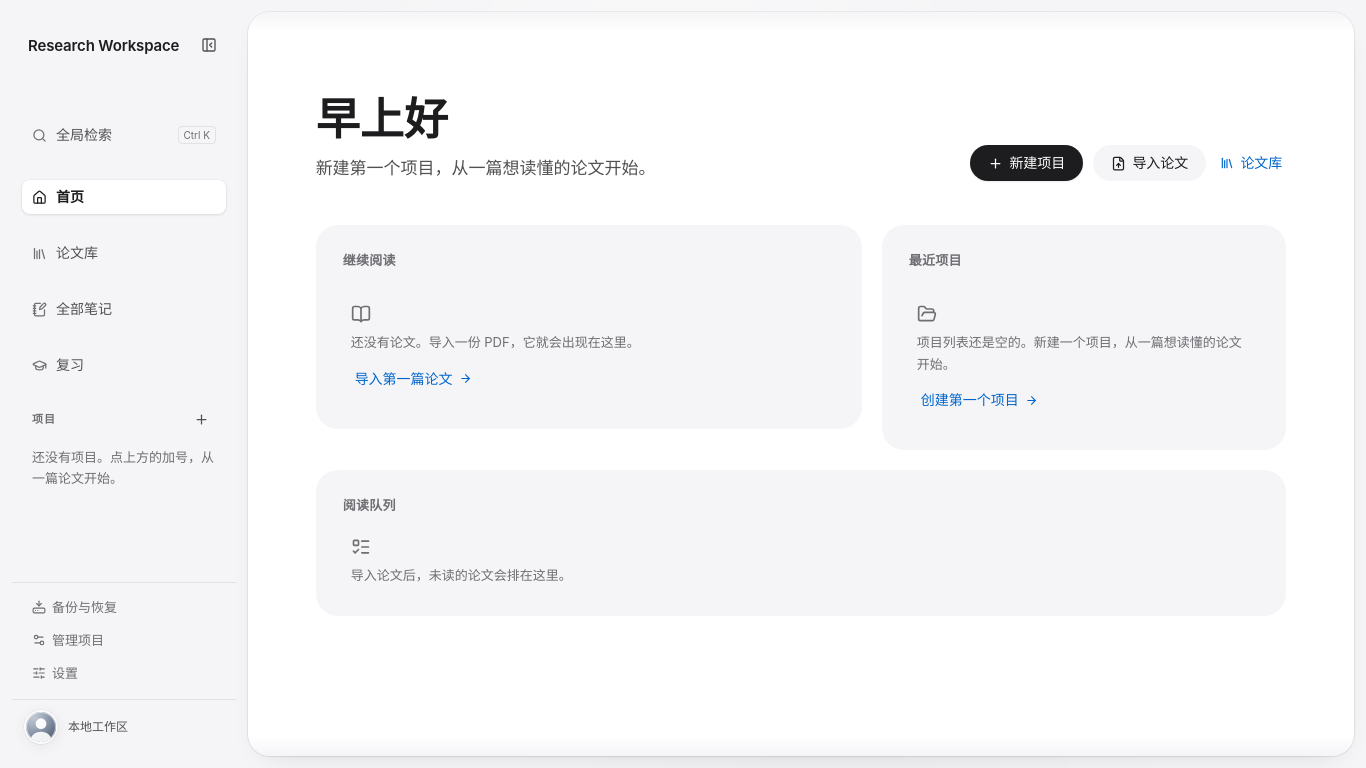
Test: opening a paper whose file is gone › offers to import a file for a paper that never had one
This screenshot has width=1366, height=768.
Click the button named "新建项目" at [201, 419], box [186,404,216,434]
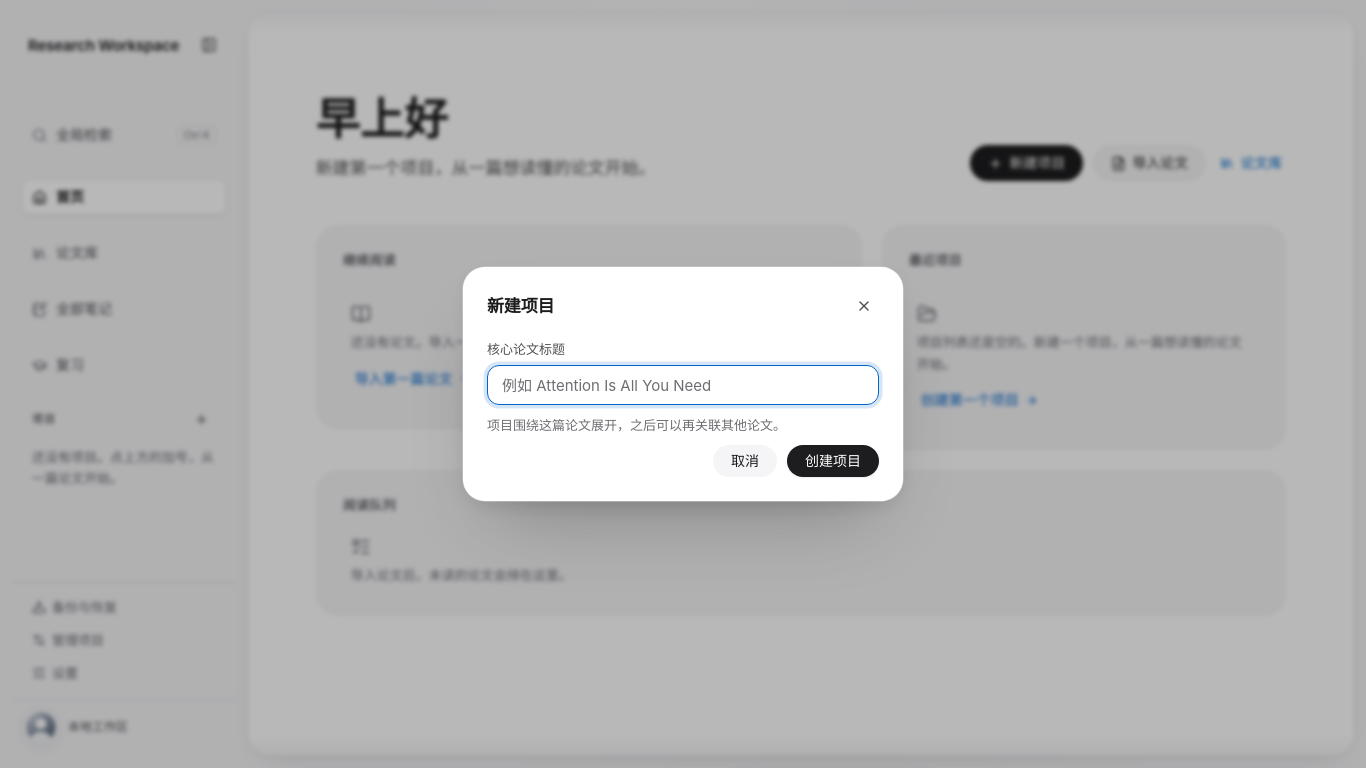
Type "Attention" into the field labelled "核心论文标题" at [683, 385], box [487,365,879,405]
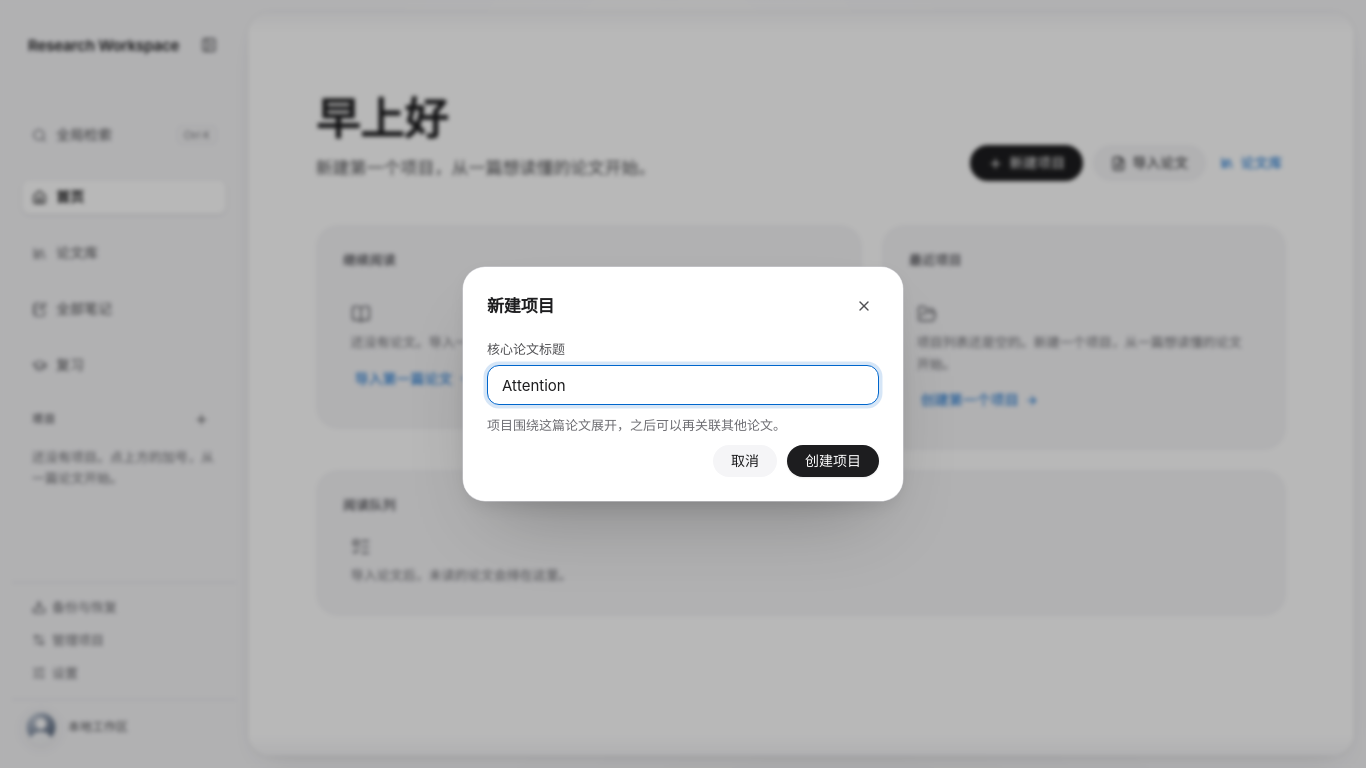
Click the button "创建项目" at [833, 461], box [787,445,879,477]
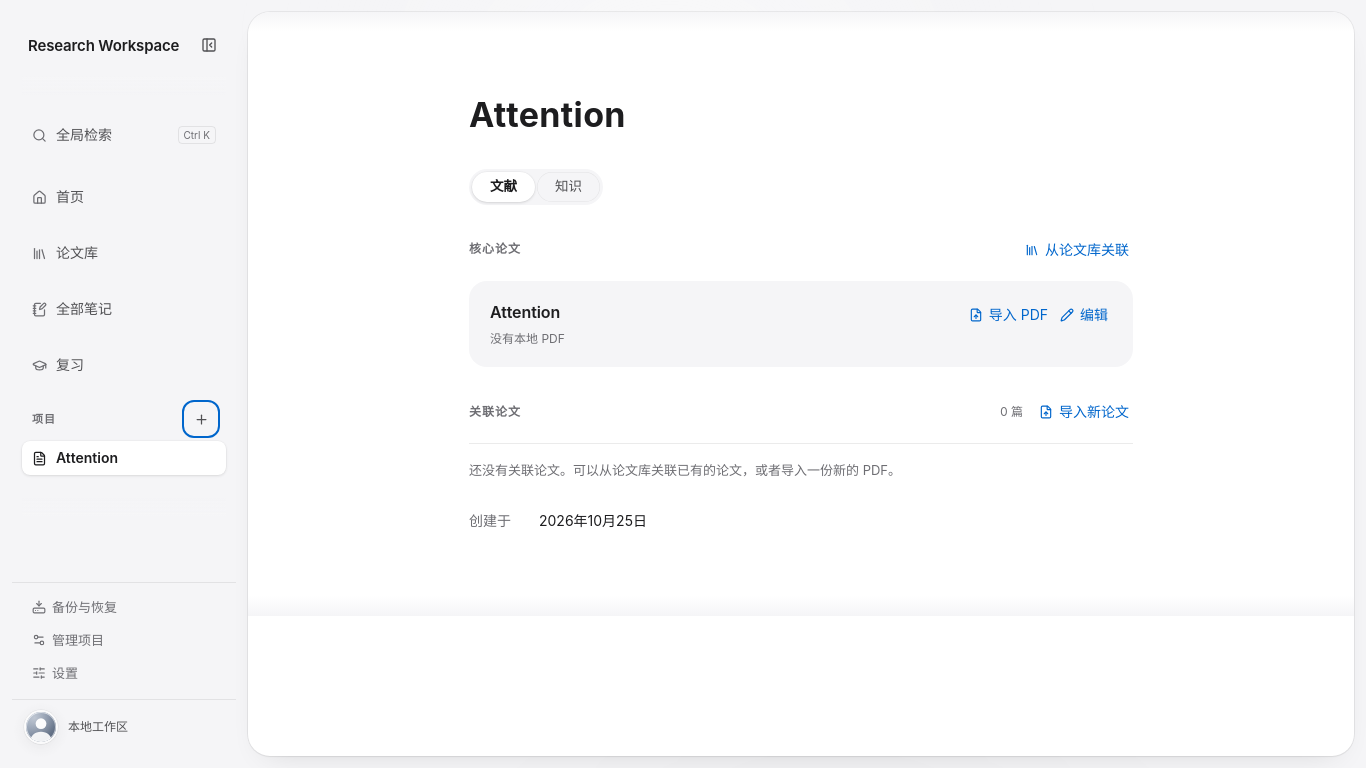
Now the text "没有本地 PDF" is shown, box [490,330,565,346]
Now the heading "阅读" is gone
Now the button "导入 PDF" is shown, box [965,300,1052,330]
